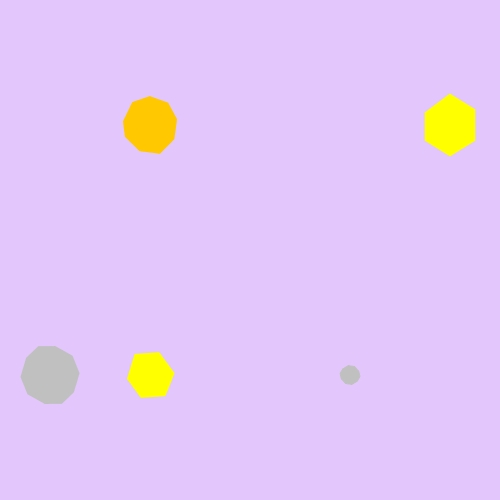decagon: (16, 344, 85, 407), (335, 361, 365, 389)
hexagon: (416, 97, 485, 154), (121, 351, 180, 400)
nonagon: (118, 95, 182, 156)
